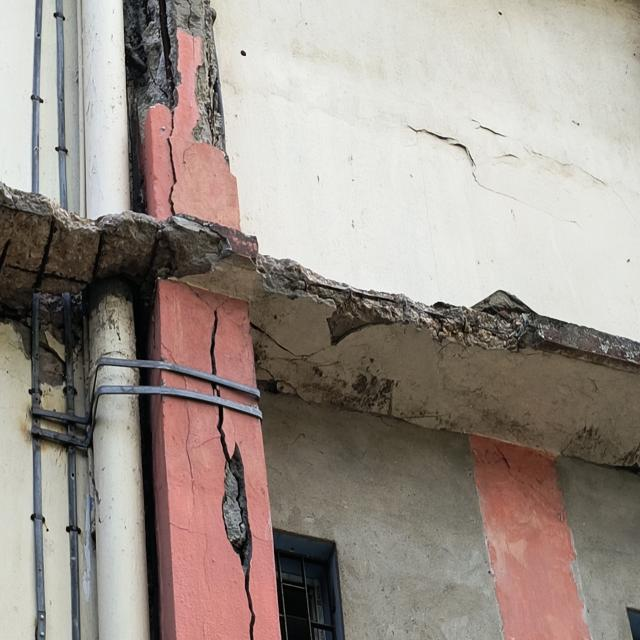crack: (193, 289, 257, 640), (163, 341, 197, 535)
peeling: (401, 111, 624, 231)
spalling: (0, 182, 232, 387), (256, 255, 640, 371), (123, 0, 225, 213)
